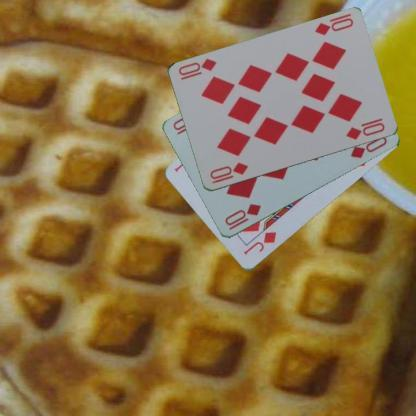10d: (222, 200, 262, 232), (312, 11, 355, 37), (207, 160, 250, 184)
Jd: (240, 230, 278, 257)
